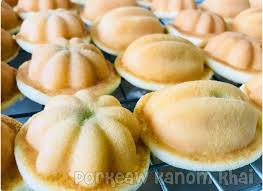kanomkai: (14, 93, 153, 191), (133, 78, 263, 172), (16, 35, 127, 110), (115, 29, 217, 92)
